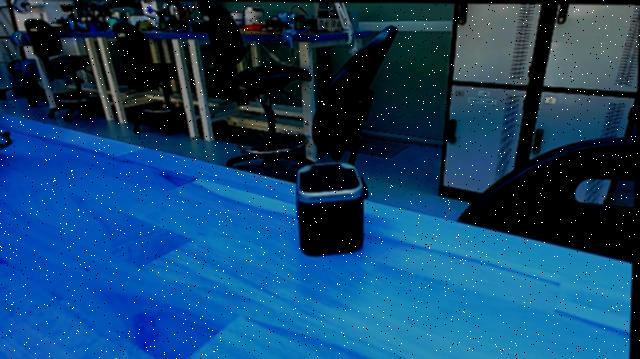adapter: (285, 158, 373, 262)
